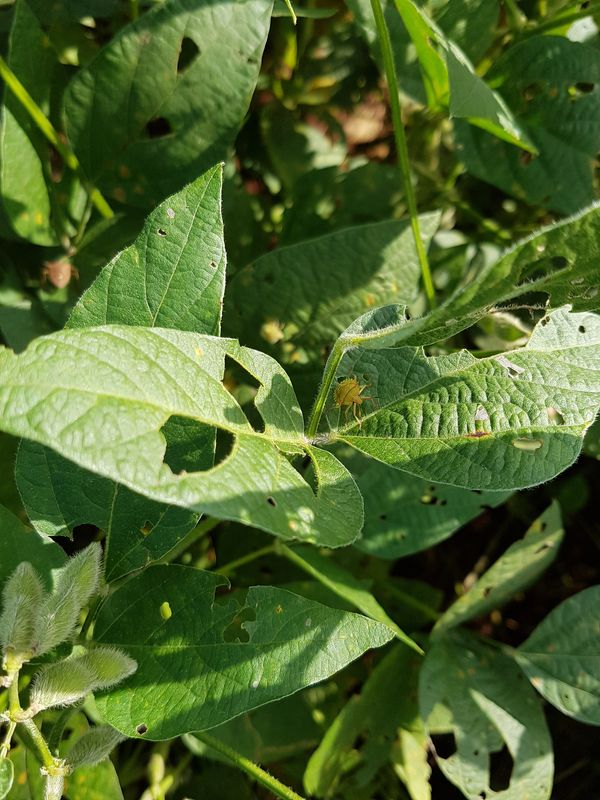Euschistus_heros_ninfa: (325, 371, 384, 429)
